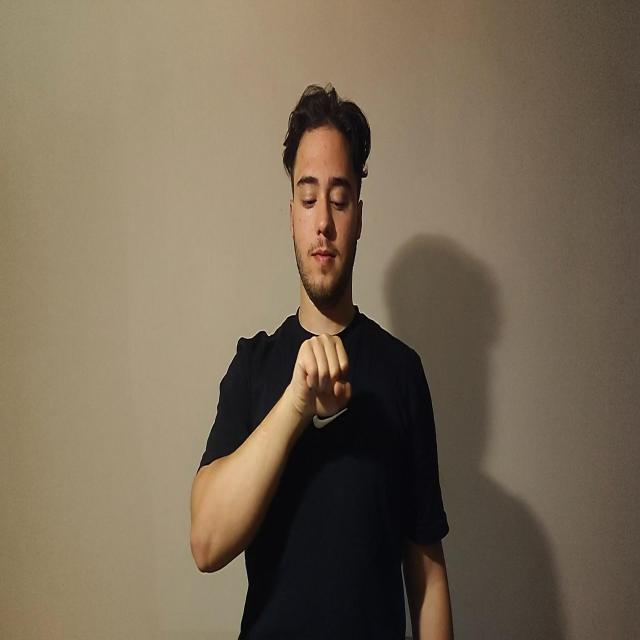yes: (290, 332, 352, 421)
